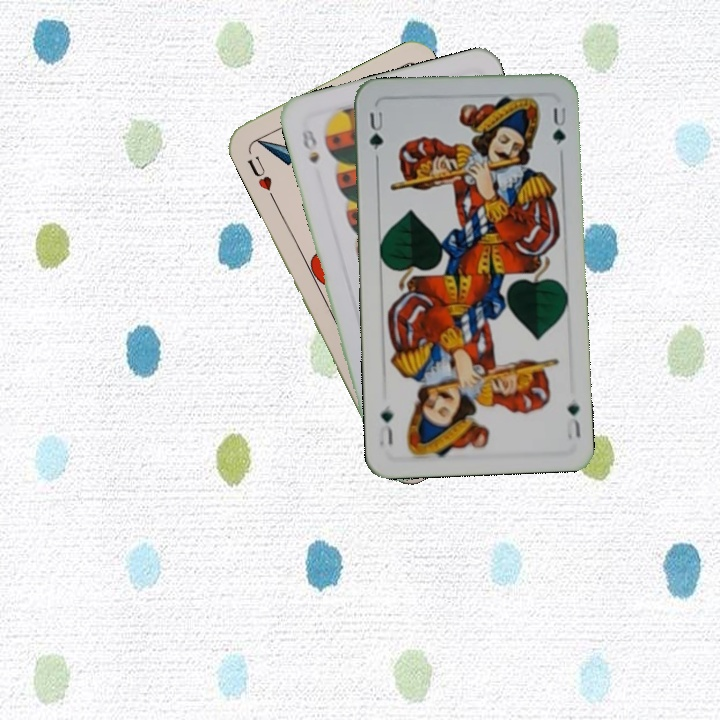GU: (365, 106, 386, 162), (562, 398, 583, 442)
HU: (243, 151, 277, 202)
S8: (297, 125, 322, 166)
